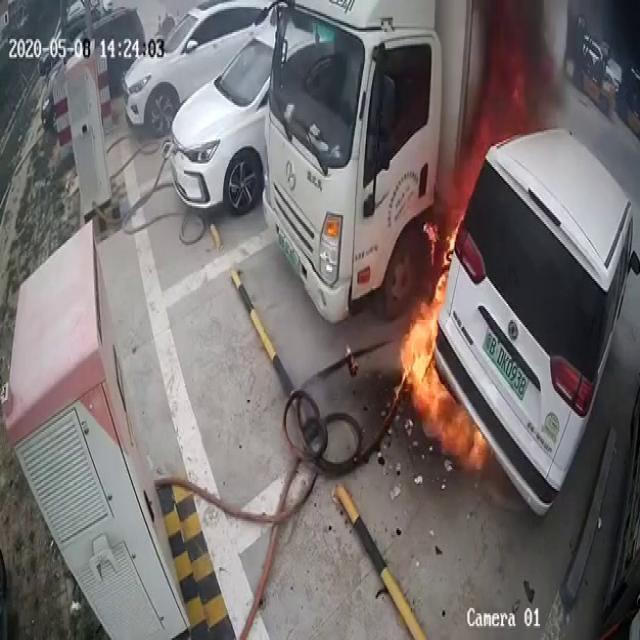Fire: (397, 234, 455, 414)
Smoke: (459, 0, 571, 158)
